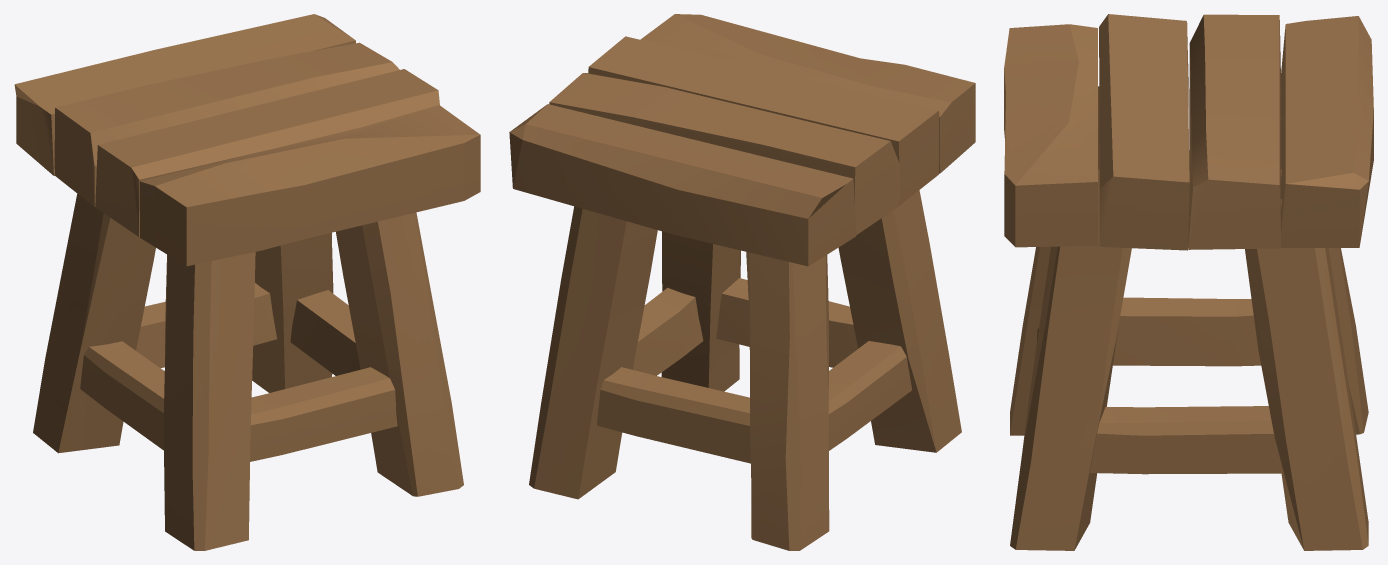
The model's file is Stool_B.fbx.
3 renders of one model, left to right at view 1: azimuth 30°, elevation 25°; view 2: azimuth 150°, elevation 25°; view 3: azimuth 270°, elevation 25°, orthographic. The views are drawn at different scales.
Visible parts, largest first — view 1: Stool_B; view 2: Stool_B; view 3: Stool_B.
Part boxes in pixels (box(x1,y1,x2,y2)): Stool_B: box(14, 14, 480, 550); Stool_B: box(509, 14, 975, 550); Stool_B: box(1004, 14, 1373, 550).
Bounding box in the file's own units: 46.13 × 50.49 × 43.95.
